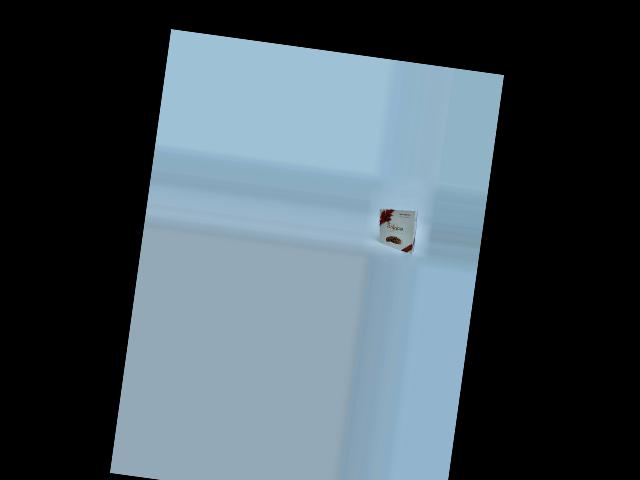chocolate: (373, 206, 427, 257)
